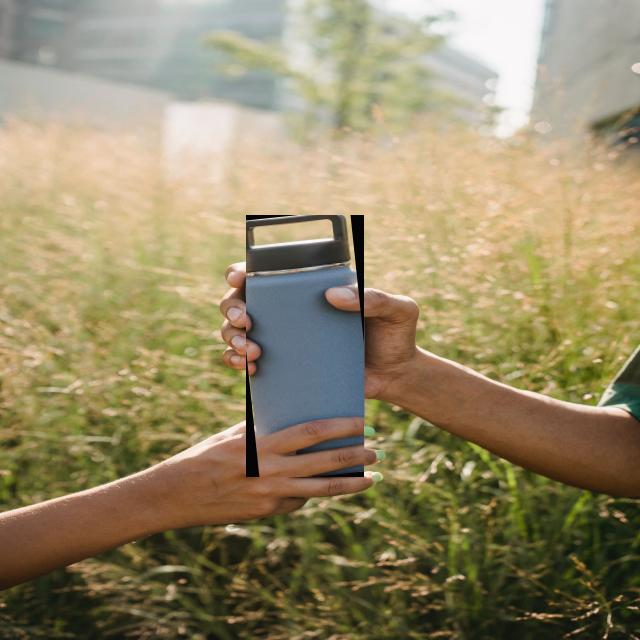Bottle: (246, 216, 364, 430)
